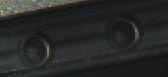joints: (19, 29, 53, 67), (107, 13, 141, 51)
